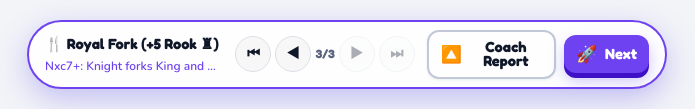
Test case: PuzzleCompletionModal.vue Component › Move Replay Controller & Ply Stepping Interactions › supports replay controls and step explanations inside the minimized docked inspection bar
This screenshot has width=695, height=109.
Expected: the element with test id "docked-inspect-bar" is shown, [27,20,667,89]
Expected: the text with test id "docked-step-counter" reads "3/3", [315,46,335,61]
Click the button with test id "docked-replay-start-btn". click: (253, 54)
box: [235,36,271,72]
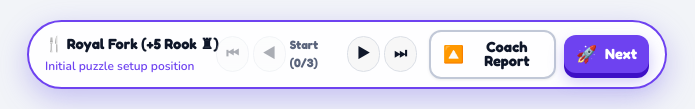
Now the text with test id "docked-step-counter" reads "Start (0/3)", box [290,37,318,70]
Now the text with test id "docked-step-explanation" reads "Initial puzzle setup position", box [45,58,194,74]
Click the button with test id "docked-replay-next-btn". click: (364, 54)
box: [347,36,380,72]
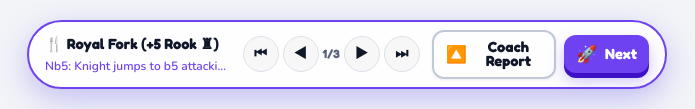
Now the text with test id "docked-step-counter" reads "1/3", box [323,46,340,61]
Now the text with test id "docked-step-explanation" shows "Nb5: Knight jumps to b5", box [45,58,250,74]
Click the button with test id "docked-replay-prev-btn". click: (301, 54)
box: [283,36,319,72]
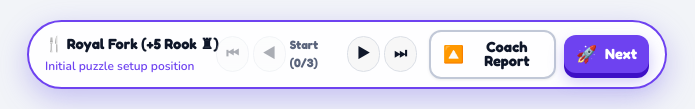
Now the text with test id "docked-step-counter" reads "Start (0/3)", box [290,37,318,70]
